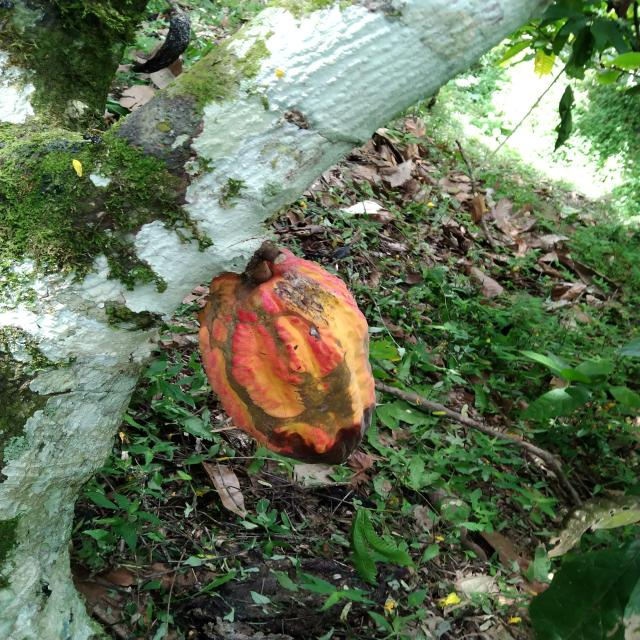Fitoftora: (202, 257, 378, 467)
